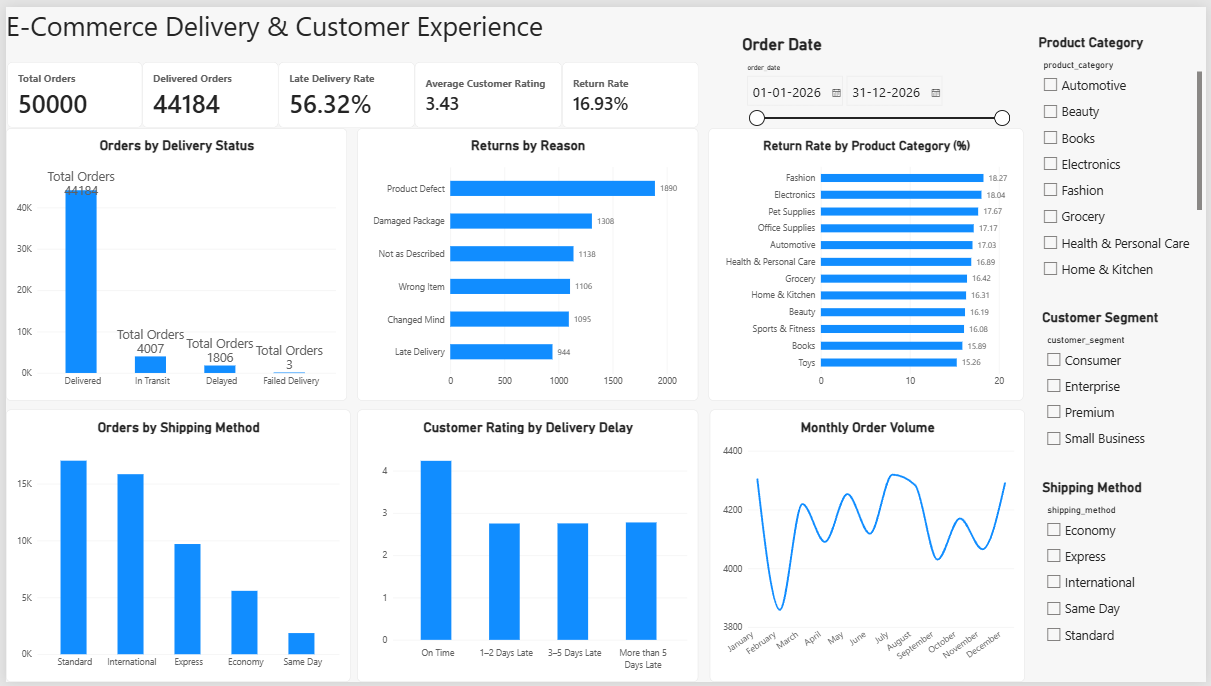

The page's visual inventory and layout, read from the dashboard file:
{"tool":"powerbi","page":{"name":"Customer Experience Overview","canvas":[1920,1080],"ordinal":0},"visuals":[{"type":"cardVisual","fields":{"Data":["ecommerce_delivery_powerbi.Late Delivery Rate"]},"box":[436.4,88.4,218.2,105.3],"z":0},{"type":"cardVisual","fields":{"Data":["ecommerce_delivery_powerbi.Total Orders"]},"box":[1.9,88.4,216.3,105.3],"z":1000},{"type":"cardVisual","fields":{"Data":["ecommerce_delivery_powerbi.Delivered Orders"]},"box":[218.2,88.4,218.2,105.3],"z":2000},{"type":"cardVisual","fields":{"Data":["ecommerce_delivery_powerbi.Average Customer Rating"]},"box":[654.5,88.4,235.1,105.3],"z":3001},{"type":"cardVisual","fields":{"Data":["ecommerce_delivery_powerbi.Return Rate"]},"box":[889.7,88.4,218.2,105.3],"z":3002},{"type":"textbox","box":[0,0,1215.8,87.8],"z":3003},{"type":"clusteredColumnChart","title":"Orders by Delivery Status","fields":{"Category":["ecommerce_delivery_powerbi.delivery_status"],"Y":["ecommerce_delivery_powerbi.Total Orders"]},"box":[0,193.7,545.5,436.4],"z":3004},{"type":"clusteredColumnChart","title":"Orders by Shipping Method","fields":{"Category":["ecommerce_delivery_powerbi.shipping_method"],"Y":["ecommerce_delivery_powerbi.Total Orders"]},"box":[0,643.3,551.1,436.4],"z":3005},{"type":"clusteredColumnChart","title":"Customer Rating by Delivery Delay","fields":{"Category":["ecommerce_delivery_powerbi.delay_group"],"Y":["ecommerce_delivery_powerbi.Average Customer Rating"]},"box":[562.4,643.3,545.5,436.4],"z":3006},{"type":"clusteredBarChart","title":"Return Rate by Product Category (%)","fields":{"Category":["ecommerce_delivery_powerbi.product_category"],"Y":["ecommerce_delivery_powerbi.Return Rate Chart"]},"box":[1124.8,193.7,504.1,436.4],"z":3007},{"type":"barChart","title":"Returns by Reason","fields":{"Category":["ecommerce_delivery_powerbi.return_reason"],"Y":["ecommerce_delivery_powerbi.Total Returns"]},"box":[562.4,193.7,545.5,436.4],"z":3008},{"type":"slicer","title":"Customer Segment","fields":{"Values":["ecommerce_delivery_powerbi.customer_segment"]},"box":[1657.1,483.4,256.3,246.2],"z":3009},{"type":"slicer","title":"Shipping Method","fields":{"Values":["ecommerce_delivery_powerbi.shipping_method"]},"box":[1657.1,756.1,251.2,271.3],"z":3010},{"type":"slicer","title":"Product Category","fields":{"Values":["ecommerce_delivery_powerbi.product_category"]},"box":[1651.5,43.5,261.3,393.6],"z":3011},{"type":"slicer","title":"Order Date","fields":{"Values":["ecommerce_delivery_powerbi.order_date"]},"box":[1178,44,432,150],"z":3012},{"type":"lineChart","title":"Monthly Order Volume","fields":{"Category":["ecommerce_delivery_powerbi.order_date.Variation.Date Hierarchy.Month"],"Y":["ecommerce_delivery_powerbi.Total Orders"]},"box":[1125,643,504,436],"z":3013}]}

Visuals, with their boxes in screenshot pixels (x1, y1, x2, y2), scaled from the page's 1920x1080 canvas onto the 1211x686 screenshot:
cardVisual - ecommerce_delivery_powerbi.Late Delivery Rate: (x1=275, y1=56, x2=413, y2=123)
cardVisual - ecommerce_delivery_powerbi.Total Orders: (x1=1, y1=56, x2=138, y2=123)
cardVisual - ecommerce_delivery_powerbi.Delivered Orders: (x1=138, y1=56, x2=275, y2=123)
cardVisual - ecommerce_delivery_powerbi.Average Customer Rating: (x1=413, y1=56, x2=561, y2=123)
cardVisual - ecommerce_delivery_powerbi.Return Rate: (x1=561, y1=56, x2=699, y2=123)
textbox: (x1=0, y1=0, x2=767, y2=56)
"Orders by Delivery Status" clusteredColumnChart: (x1=0, y1=123, x2=344, y2=400)
"Orders by Shipping Method" clusteredColumnChart: (x1=0, y1=409, x2=348, y2=685)
"Customer Rating by Delivery Delay" clusteredColumnChart: (x1=355, y1=409, x2=699, y2=685)
"Return Rate by Product Category (%)" clusteredBarChart: (x1=709, y1=123, x2=1027, y2=400)
"Returns by Reason" barChart: (x1=355, y1=123, x2=699, y2=400)
"Customer Segment" slicer: (x1=1045, y1=307, x2=1207, y2=463)
"Shipping Method" slicer: (x1=1045, y1=480, x2=1204, y2=653)
"Product Category" slicer: (x1=1042, y1=28, x2=1206, y2=278)
"Order Date" slicer: (x1=743, y1=28, x2=1015, y2=123)
"Monthly Order Volume" lineChart: (x1=710, y1=408, x2=1027, y2=685)
